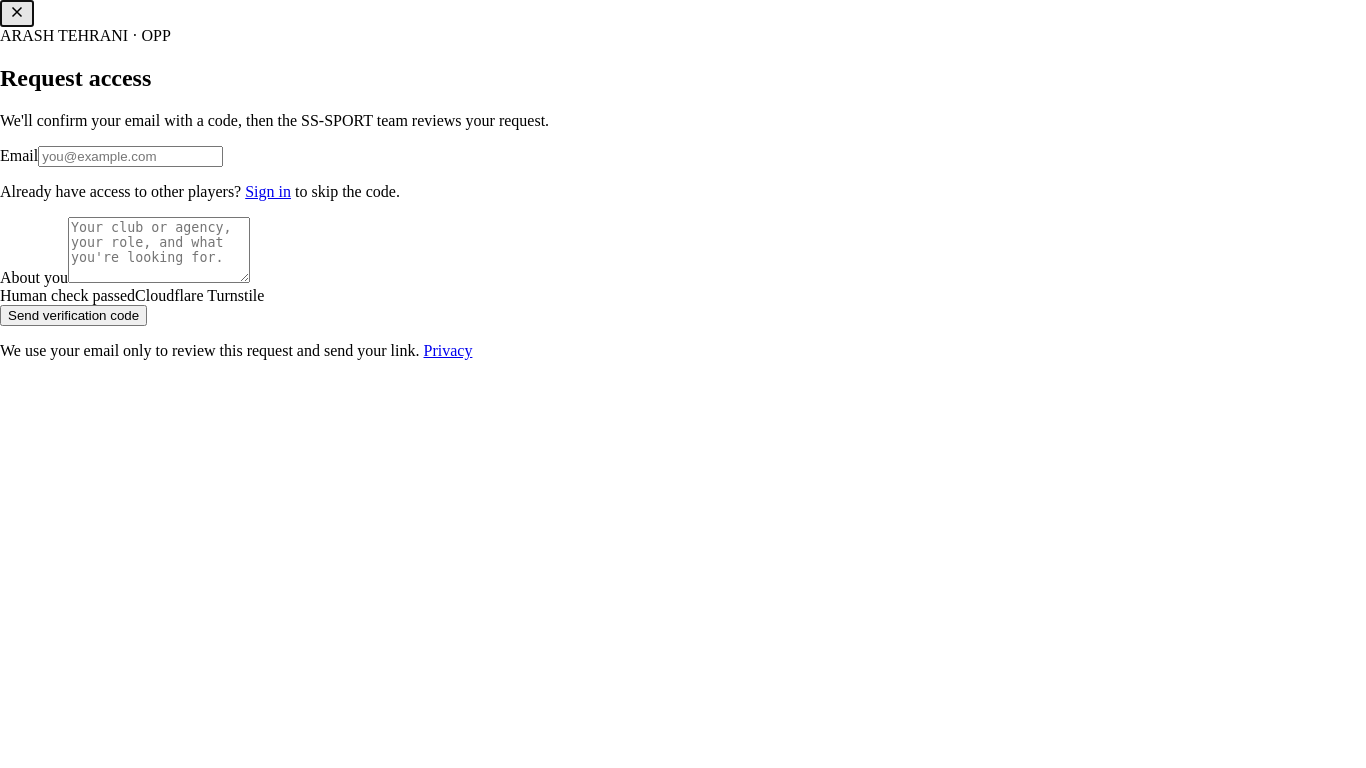
Test: RequestAccessModal (P-3 UI, canvas Locked modal), signed out › sends a code to the trimmed email and moves to the code step
The width and height of the screenshot is (1366, 768).
Type "  scout@club.com " into the field labelled "Email" at (131, 156), box [38, 146, 223, 167]
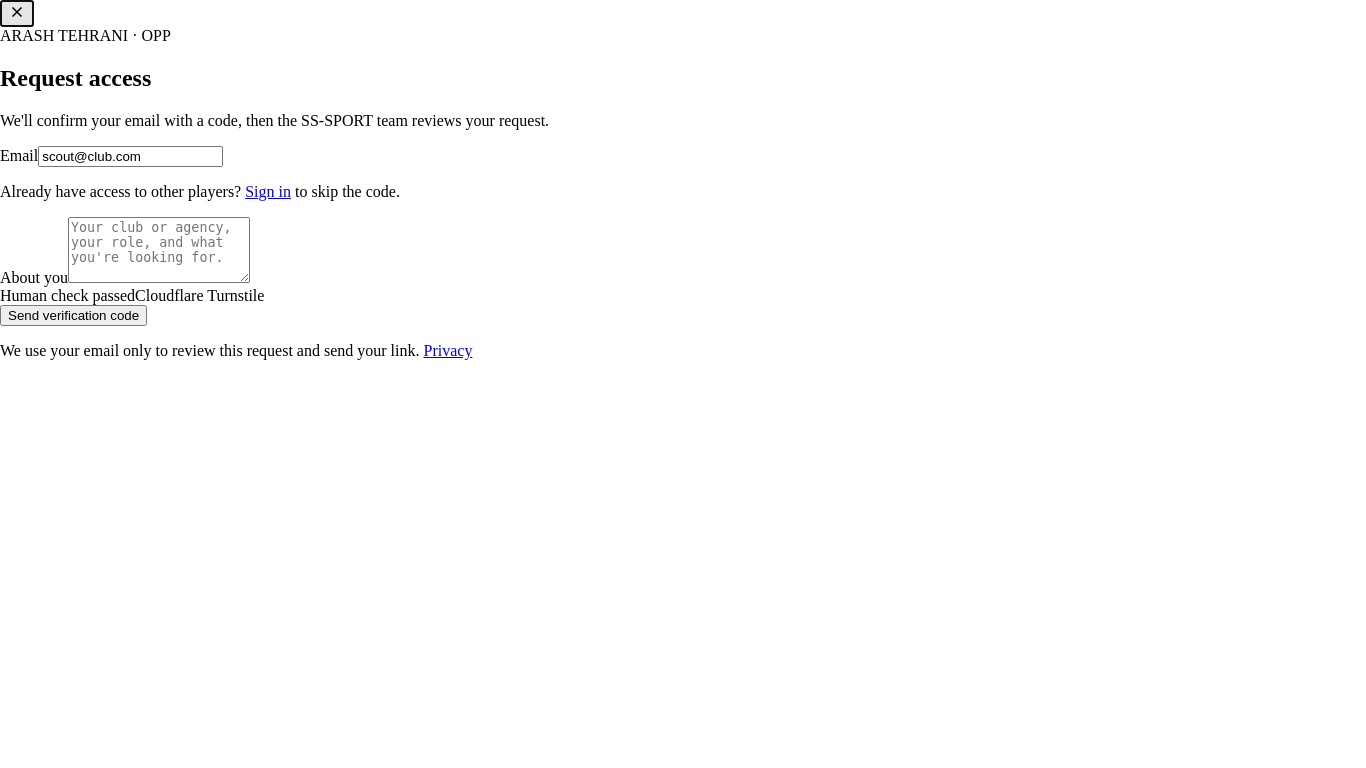
Type "Head scout at Club Aurora" into the text box labelled "About you" at (159, 250), box [68, 217, 250, 283]
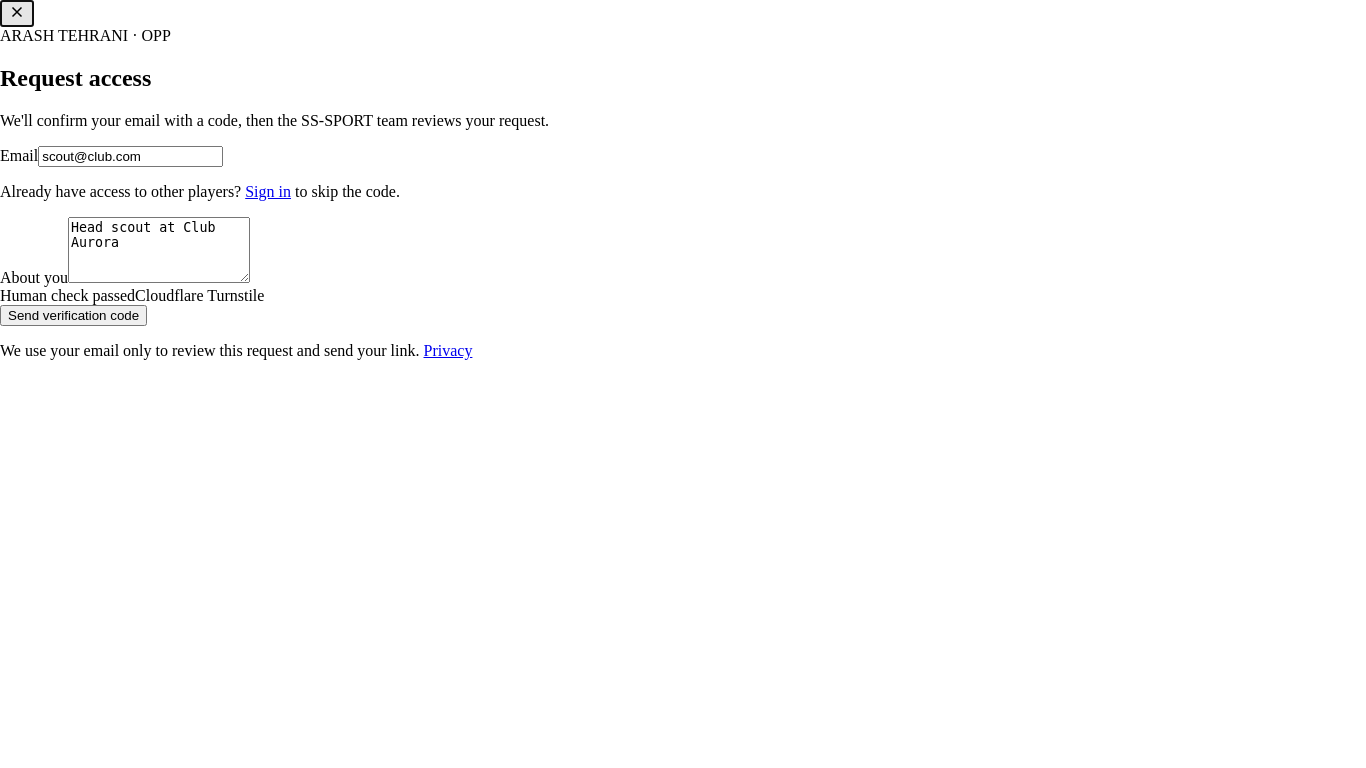
Click the button "Send verification code" at (74, 315), box [0, 305, 147, 326]
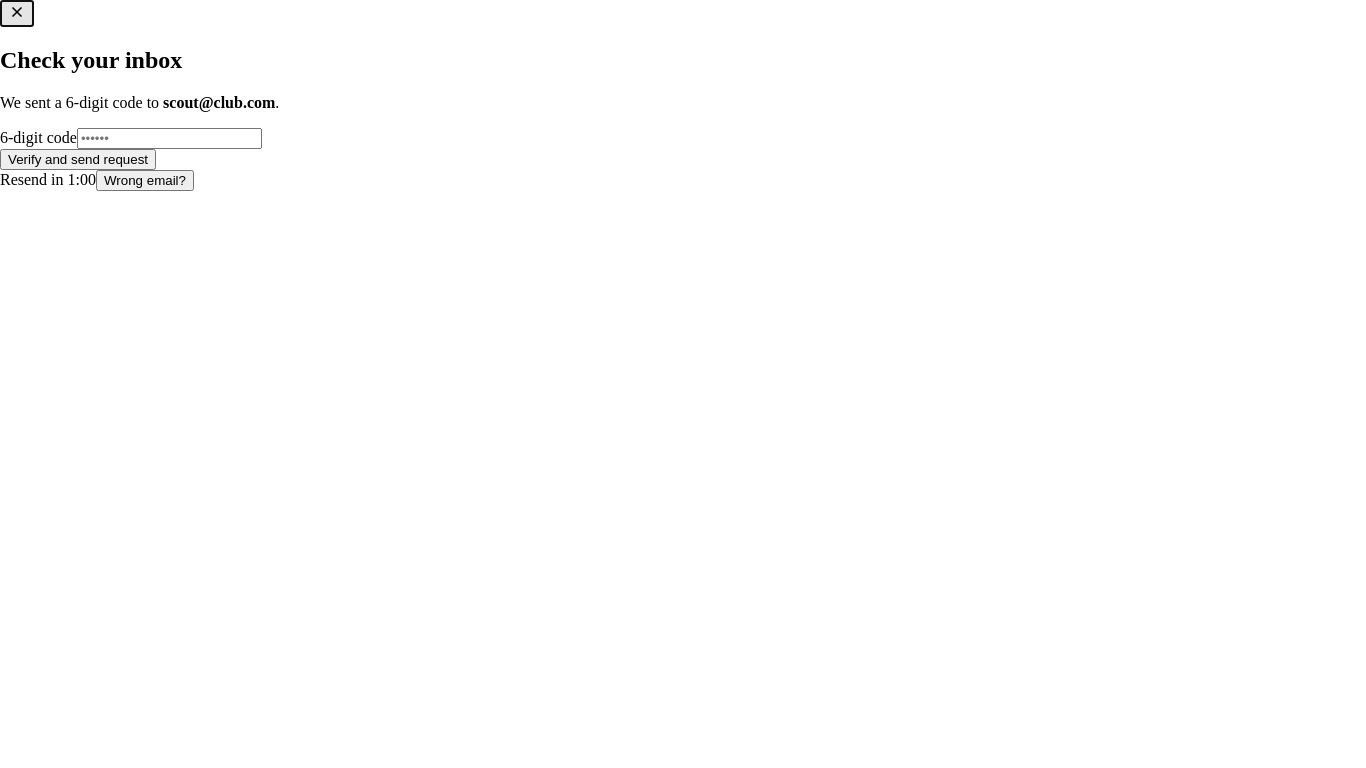
Result: the heading "Check your inbox" is shown at [0, 47, 182, 73]
Result: the text "scout@club.com" is shown at [163, 94, 275, 111]
Result: the text "Resend in 1:00" is shown at [0, 171, 96, 188]
